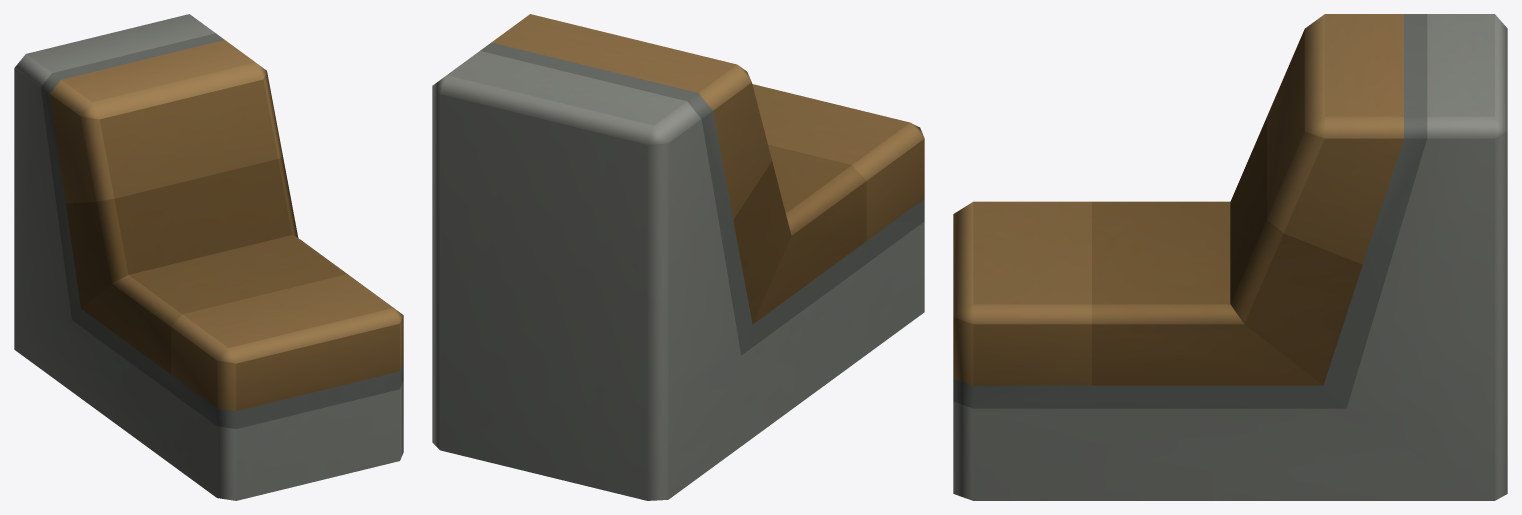
File: chair_roof_x1_wood.fbx
The picture shows the model from 3 angles, left to right: view 1: azimuth 30°, elevation 25°; view 2: azimuth 150°, elevation 25°; view 3: azimuth 270°, elevation 25°; orthographic projection. The views are drawn at different scales.
Parts seen in each view (by area): view 1: chair_roof_x1_wood; view 2: chair_roof_x1_wood; view 3: chair_roof_x1_wood.
Boxes of the visible parts, left/top/right/bottom form: chair_roof_x1_wood: left=14, top=14, right=403, bottom=500; chair_roof_x1_wood: left=432, top=14, right=924, bottom=500; chair_roof_x1_wood: left=953, top=14, right=1507, bottom=500.
Bounding box in the file's own units: 50 × 75 × 100.
